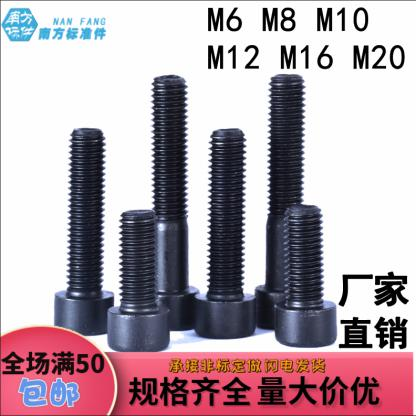FOD: (140, 72, 202, 334), (254, 70, 316, 330), (192, 126, 257, 341), (51, 126, 114, 336), (272, 205, 340, 349), (104, 207, 170, 354)
